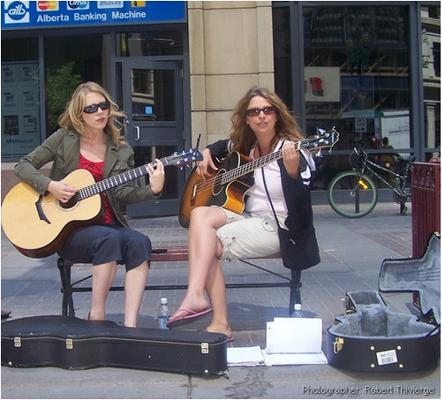person: (166, 87, 321, 343)
